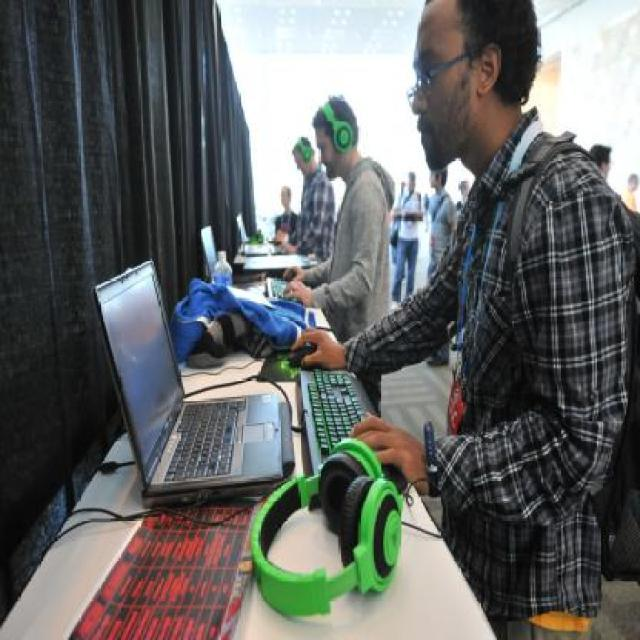earphone: (258, 435, 420, 619), (314, 90, 360, 155), (294, 136, 320, 166)
laptop_computer: (82, 246, 320, 502), (175, 208, 234, 292), (235, 199, 260, 255)
